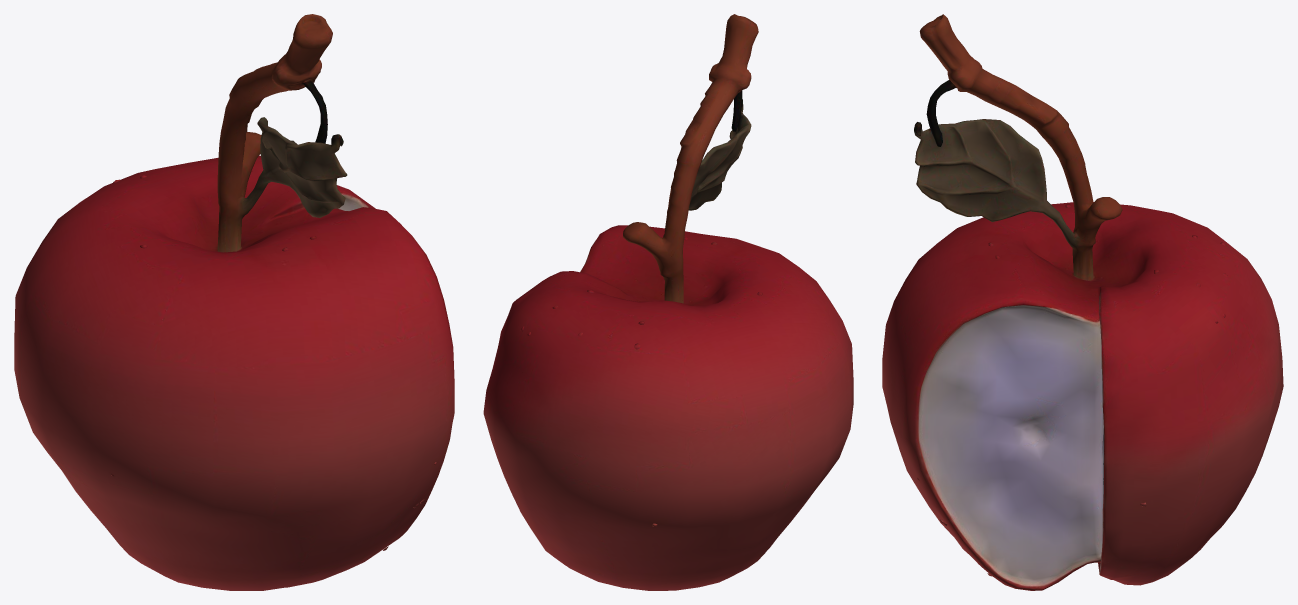
3 views of the same model, side by side, from view 1: azimuth 30°, elevation 25°; view 2: azimuth 150°, elevation 25°; view 3: azimuth 270°, elevation 25° (orthographic). The views are drawn at different scales.
Parts seen in each view (by area): view 1: tripo_node_478f9cd2-87b2-45e0-b24a-b75dddab806e; view 2: tripo_node_478f9cd2-87b2-45e0-b24a-b75dddab806e; view 3: tripo_node_478f9cd2-87b2-45e0-b24a-b75dddab806e.
Part boxes in pixels (x1,y1,x2,y2): tripo_node_478f9cd2-87b2-45e0-b24a-b75dddab806e: [14, 14, 454, 590]; tripo_node_478f9cd2-87b2-45e0-b24a-b75dddab806e: [483, 14, 853, 590]; tripo_node_478f9cd2-87b2-45e0-b24a-b75dddab806e: [882, 14, 1283, 590].
Bounding box in the file's own units: 0.6438 × 0.9961 × 0.6732.
1 material, 1 textured.
